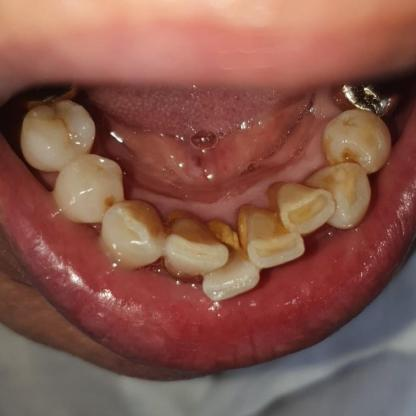Crowding: (209, 195, 300, 301), (165, 216, 256, 304), (275, 164, 370, 233)
